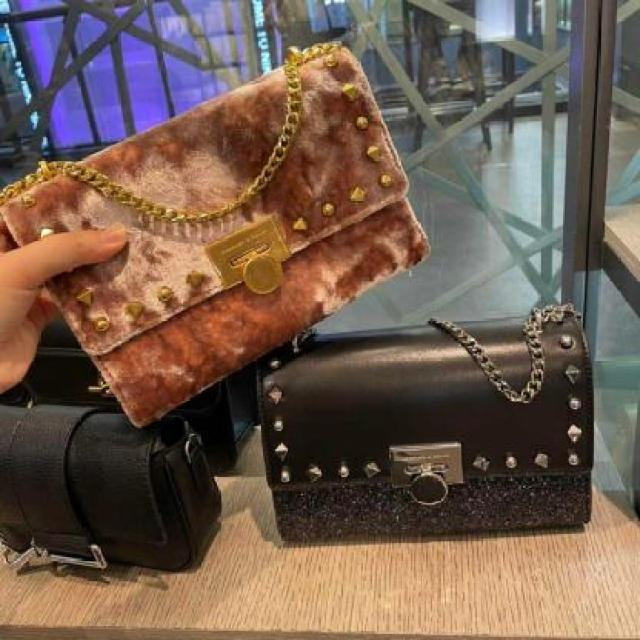Bag: (0, 13, 452, 466), (264, 262, 627, 570)
